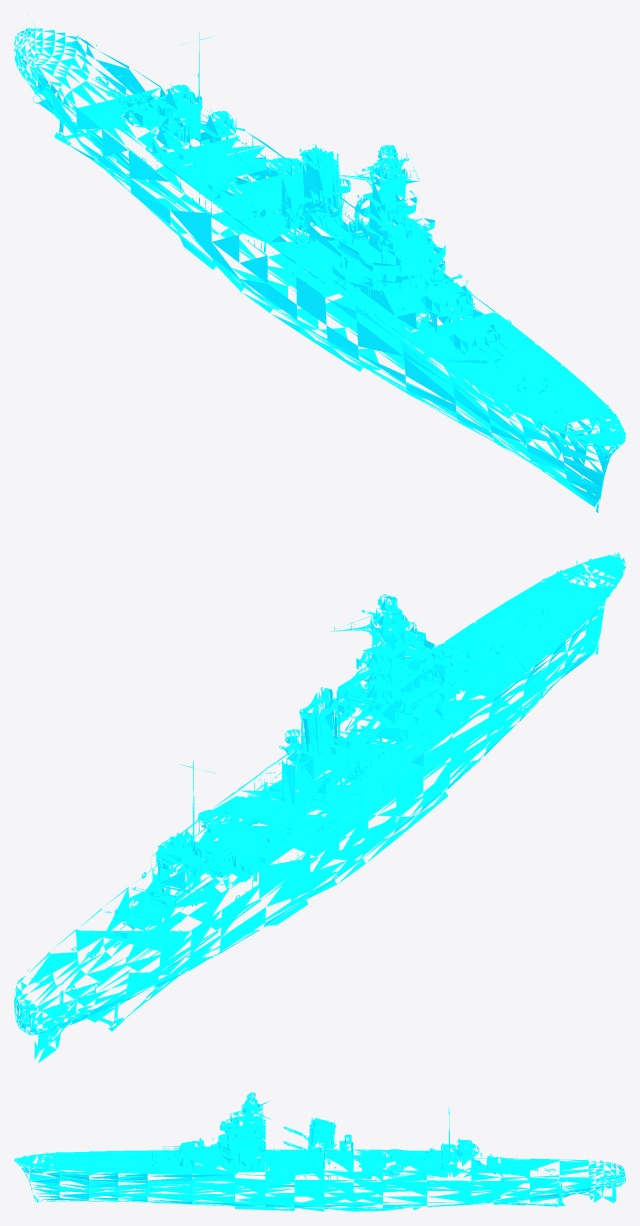
The model's file is PFSC506.glb.
3 views of the same model, one above another, from view 1: azimuth 30°, elevation 25°; view 2: azimuth 150°, elevation 25°; view 3: azimuth 270°, elevation 25° (orthographic). The views are drawn at different scales.
Visible parts, largest first — view 1: hull_mid, hull_bow, hull_stern, main_battery, secondary_battery, superstructure; view 2: hull_mid, hull_bow, hull_stern, main_battery, secondary_battery; view 3: hull_mid, hull_bow, hull_stern, main_battery, secondary_battery, superstructure.
Part boxes in pixels (left/top/right/bottom): hull_mid: left=100, top=32, right=534, bottom=430; hull_bow: left=443, top=343, right=625, bottom=512; hull_stern: left=14, top=14, right=190, bottom=183; main_battery: left=109, top=86, right=513, bottom=358; secondary_battery: left=156, top=83, right=236, bottom=149; superstructure: left=362, top=145, right=429, bottom=274; hull_mid: left=104, top=611, right=533, bottom=975; hull_bow: left=443, top=552, right=625, bottom=730; hull_stern: left=14, top=908, right=191, bottom=1062; main_battery: left=109, top=633, right=513, bottom=932; secondary_battery: left=156, top=830, right=235, bottom=879; hull_mid: left=136, top=1100, right=513, bottom=1211; hull_bow: left=14, top=1150, right=147, bottom=1202; hull_stern: left=493, top=1158, right=625, bottom=1206; main_battery: left=133, top=1138, right=528, bottom=1172; secondary_battery: left=441, top=1138, right=473, bottom=1170; superstructure: left=212, top=1092, right=257, bottom=1139.
Size of the model in its own units: 1.24 by 2.46 by 12.51.
